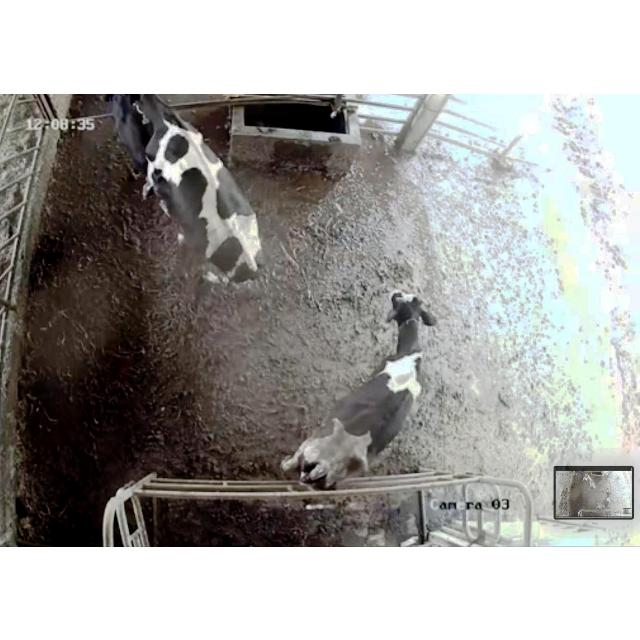ride: (135, 94, 271, 296)
